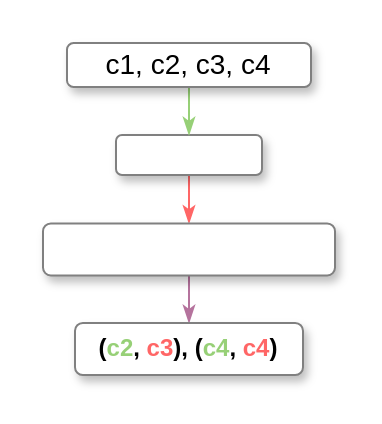
This 382x424 diagram has some shape labels left out. Here are the shapes that lost their labels. From the top down, the centre of each, then its label:
At point (190, 157): "c2, c4".
At point (190, 251): "( c2 , c3 ), ( c2 , c4 ), ( c4 , c4 )".
